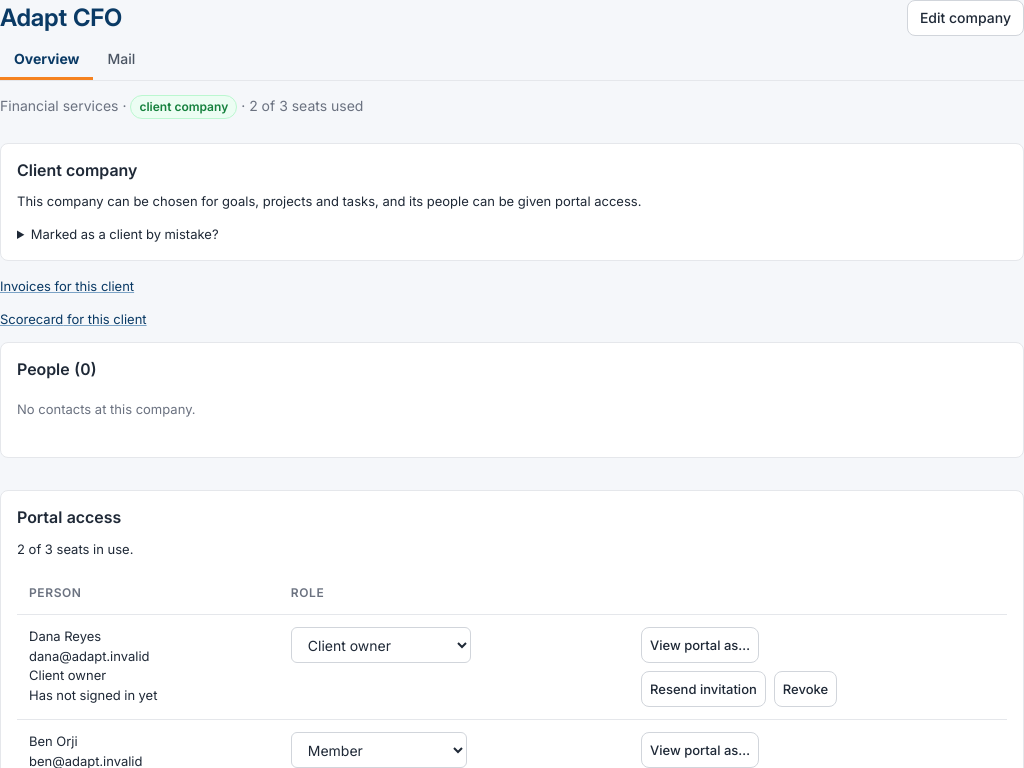
Test: changing an existing portal user's role › widens to founder without asking
Select "Client owner" in the dropdown named "Role for Ben Orji" at (379,750), box [291,732,467,767]
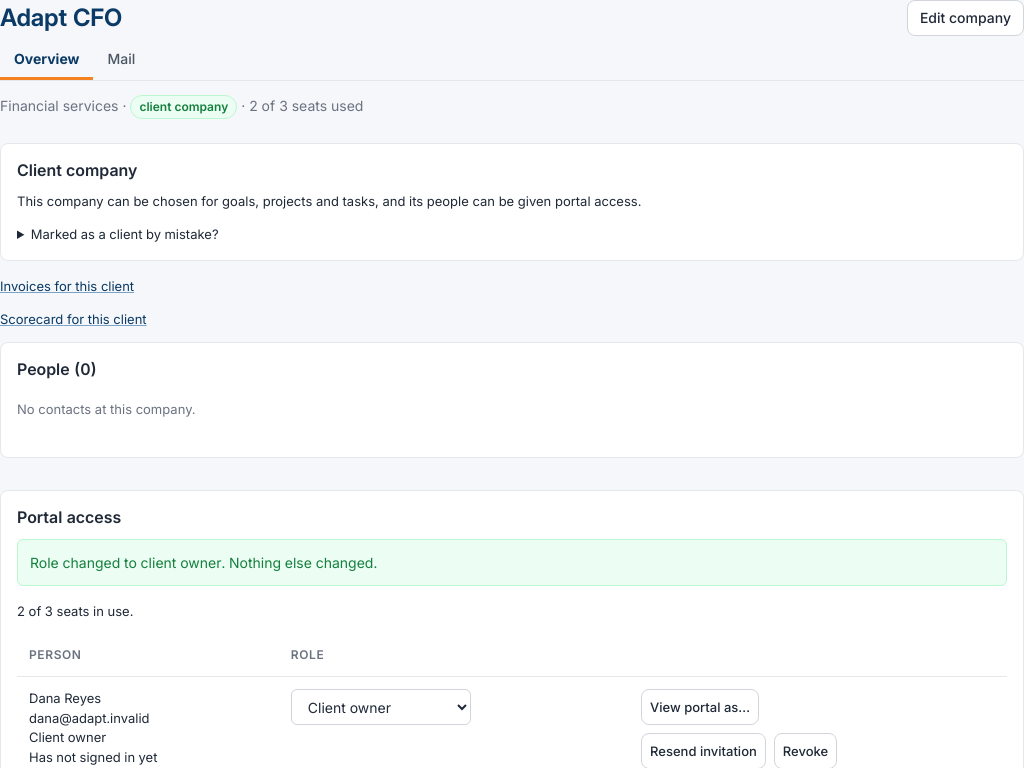
Result: the text "Role changed to client owner. Nothing else changed." is shown at [30,554,377,570]
